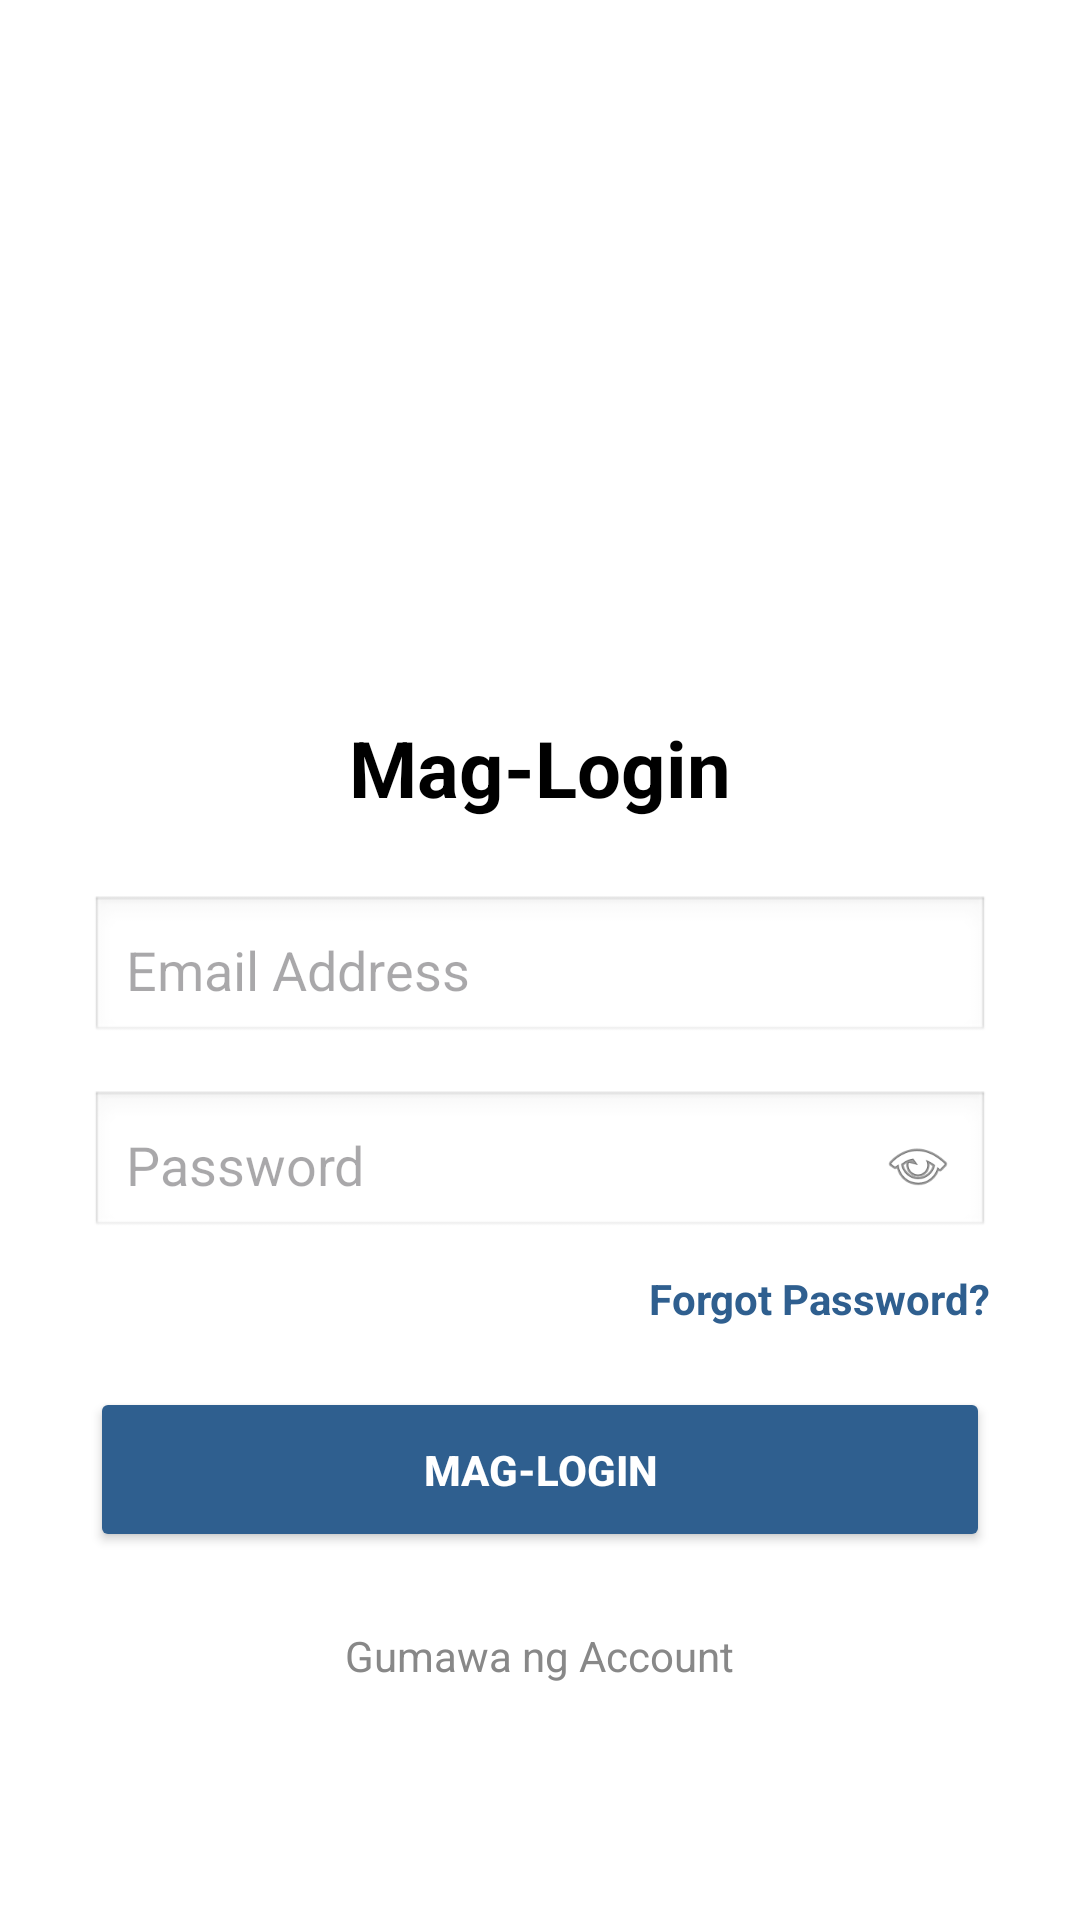

Where icons sit on this 1080w x 1920h app screen, as (x1, y1, x2, y2):
view: (889, 1148, 947, 1185)
